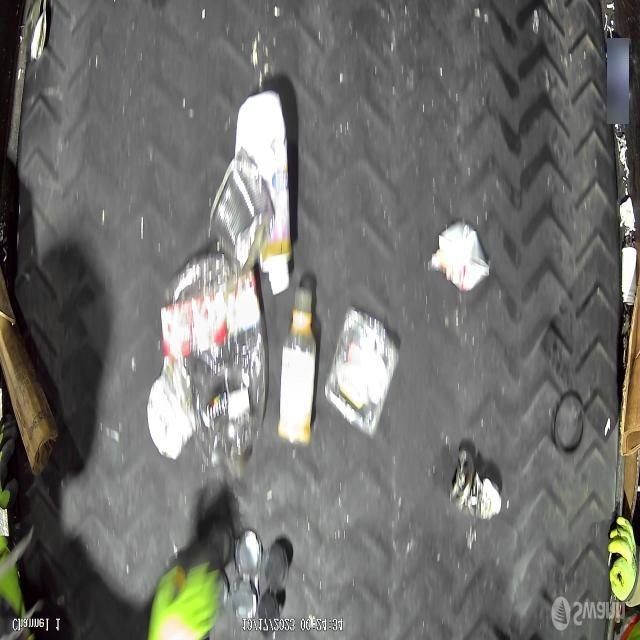plastic_bottle: (277, 283, 317, 449)
